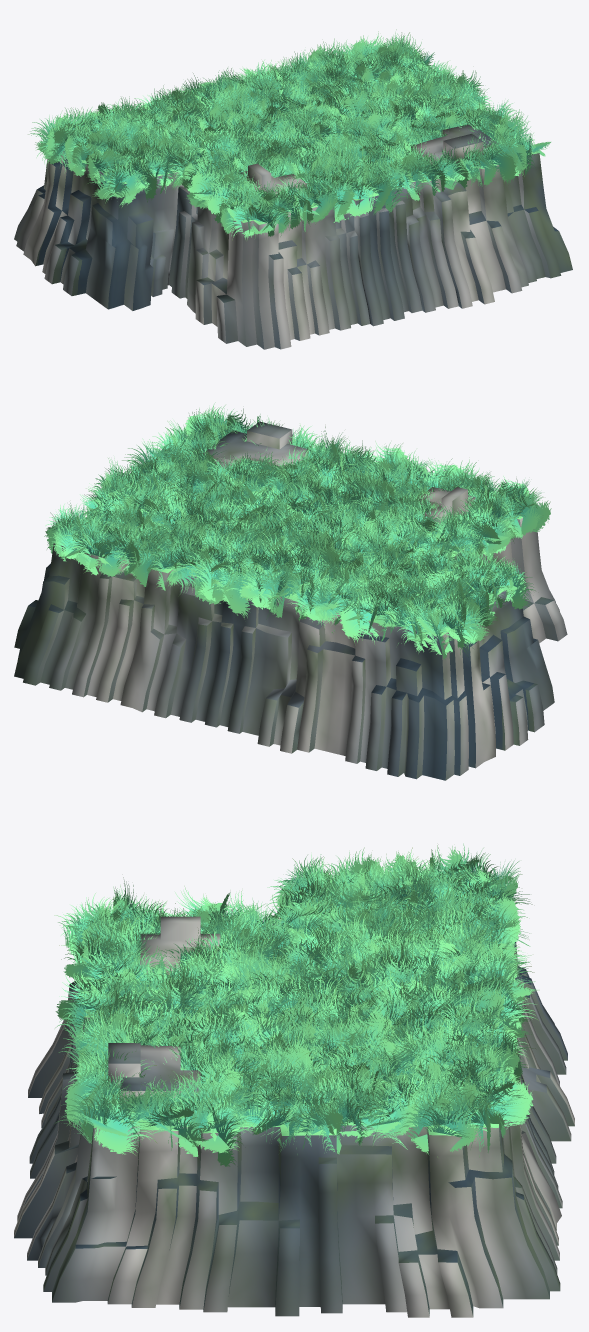
Rendered from Kliff.fbx.
The picture shows the model from 3 angles, top to bottom: view 1: azimuth 30°, elevation 25°; view 2: azimuth 150°, elevation 25°; view 3: azimuth 270°, elevation 25°; orthographic projection. The views are drawn at different scales.
Parts seen in each view (by area): view 1: Cube.005; view 2: Cube.005; view 3: Cube.005.
Boxes of the visible parts, bbox=[...] form: Cube.005: bbox=[14, 29, 572, 349]; Cube.005: bbox=[14, 402, 567, 780]; Cube.005: bbox=[14, 843, 574, 1317].
Bounding box in the file's own units: 1542 × 548 × 1204.
